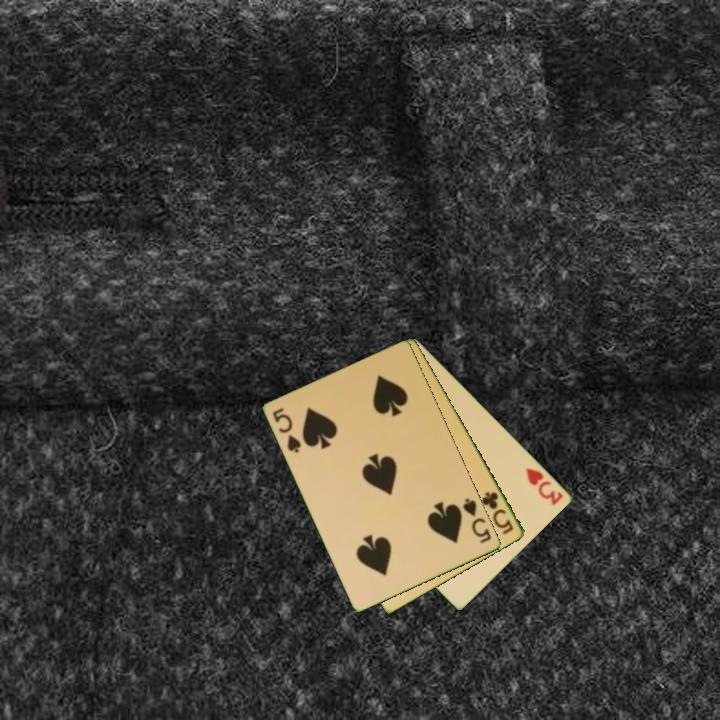3h: (522, 464, 566, 509)
5c: (478, 488, 517, 537)
5s: (459, 495, 495, 546), (269, 404, 304, 456)
